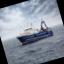fishing boat: (10, 10, 54, 47)
